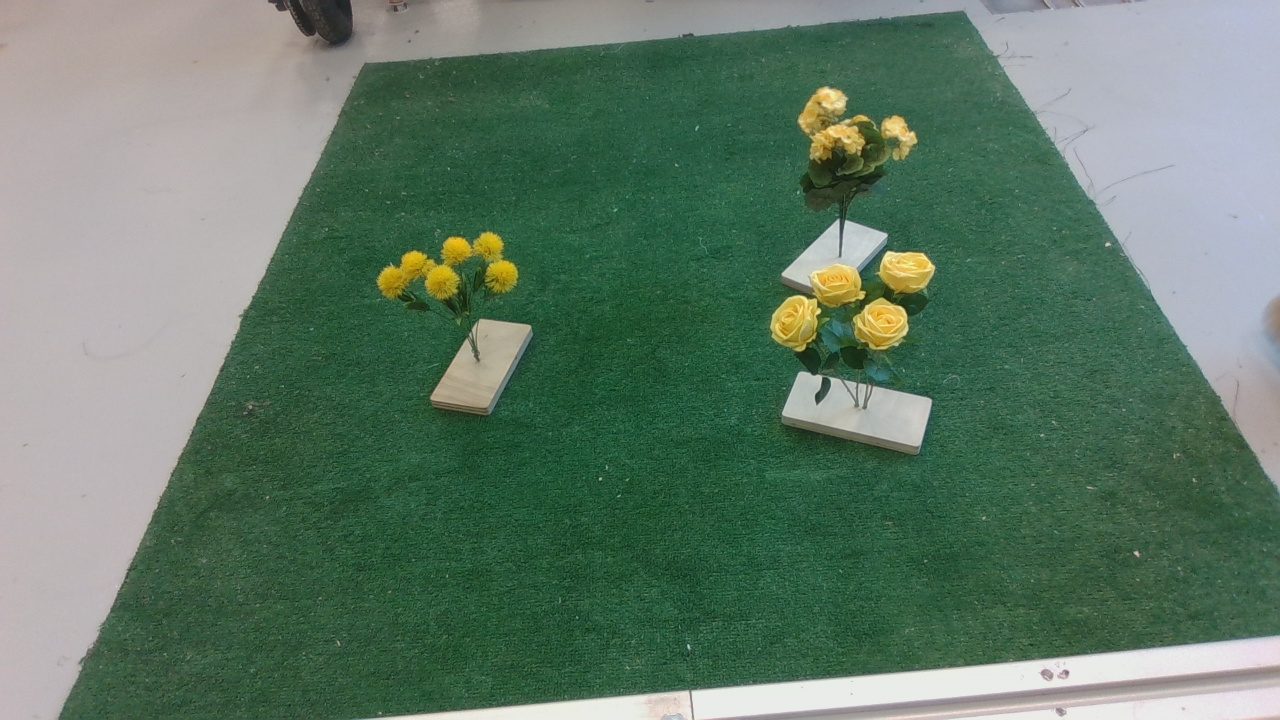dandelion: (374, 232, 532, 335)
geranium: (799, 88, 928, 224)
rose: (770, 248, 958, 390)
